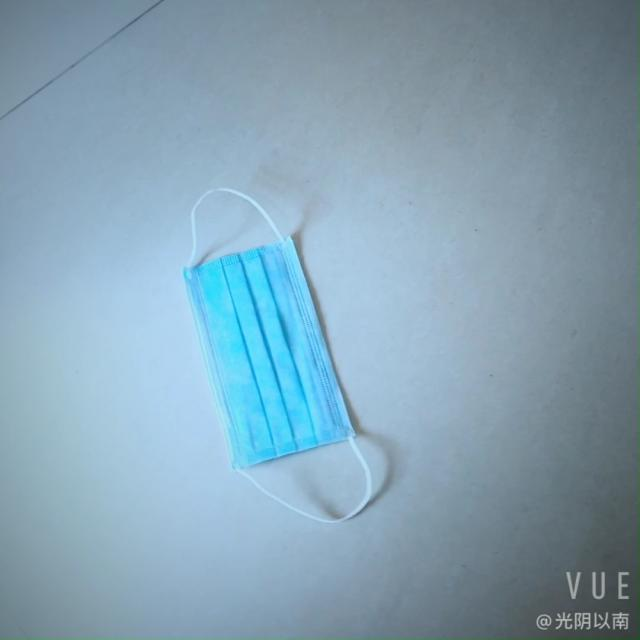non-organic waste: (165, 240, 367, 482)
